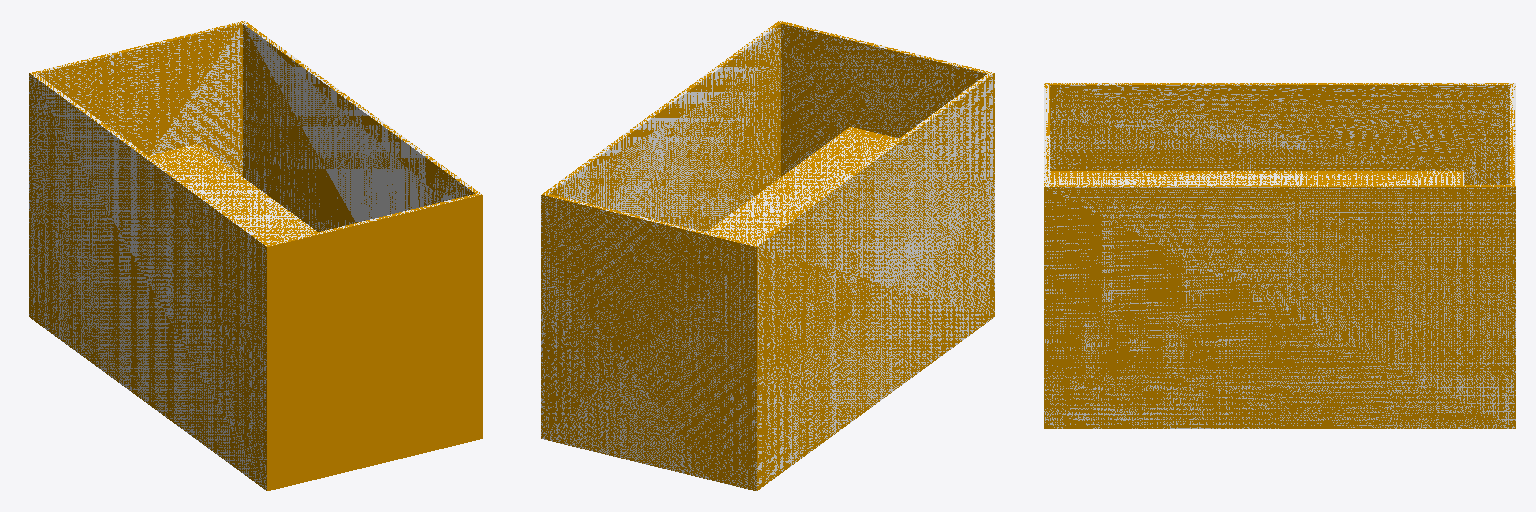
The robot description file, URDF, robot "my_object":
<?xml version="1.0" ?> 
<robot name="my_object" static="true">
  <link name="base_link">
  <inertial>
    <mass value="6.0" />
    <origin xyz="0 0 0.0" />
    <inertia ixx="1.0" ixy="0.0" ixz="0.0" iyy="1.0" iyz="0.0" izz="1.0"/>
  </inertial>
  <visual>
   <origin xyz="0 0 0.0" rpy="0 0 0" />
   <geometry>
     <mesh filename="package://cob_gazebo_objects/Media/models/large_carton.dae"/>
   </geometry>
  </visual>
  <collision>
   <origin xyz="-0.015 -0.008 0.255" rpy="0 0 0" />
   <geometry>
      <box size="0.47 0.9 0.51" /> 
	<!--<mesh filename="package://cob_gazebo_objects/Media/models/large_carton.dae"/>-->
   </geometry>
  </collision>     
  </link>

<gazebo reference="base_link">
  <mu1>1.0</mu1>
  <mu2>1.0</mu2>
  <kp>1000000.0</kp>
  <kd>1.0</kd>
</gazebo>
</robot>

--- Render facts (derived) ---
Views: 3 orthographic renders of the robot side by side, from view 1: azimuth 30°, elevation 25°; view 2: azimuth 150°, elevation 25°; view 3: azimuth 270°, elevation 25°.
Model my_object with 1 links and 0 joints (none), rooted at base_link, posed all joints at 0.
Visible links, largest first — view 1: base_link; view 2: base_link; view 3: base_link.
Link boxes in pixels (bbox=[...]): base_link: bbox=[29, 21, 482, 490]; base_link: bbox=[541, 21, 994, 490]; base_link: bbox=[1044, 83, 1515, 428].
Size in the robot's own frame: 0.0119 by 0.0228 by 0.0129 metres.
1 mesh visuals loaded from 1 distinct referenced files (1 Collada DAE).